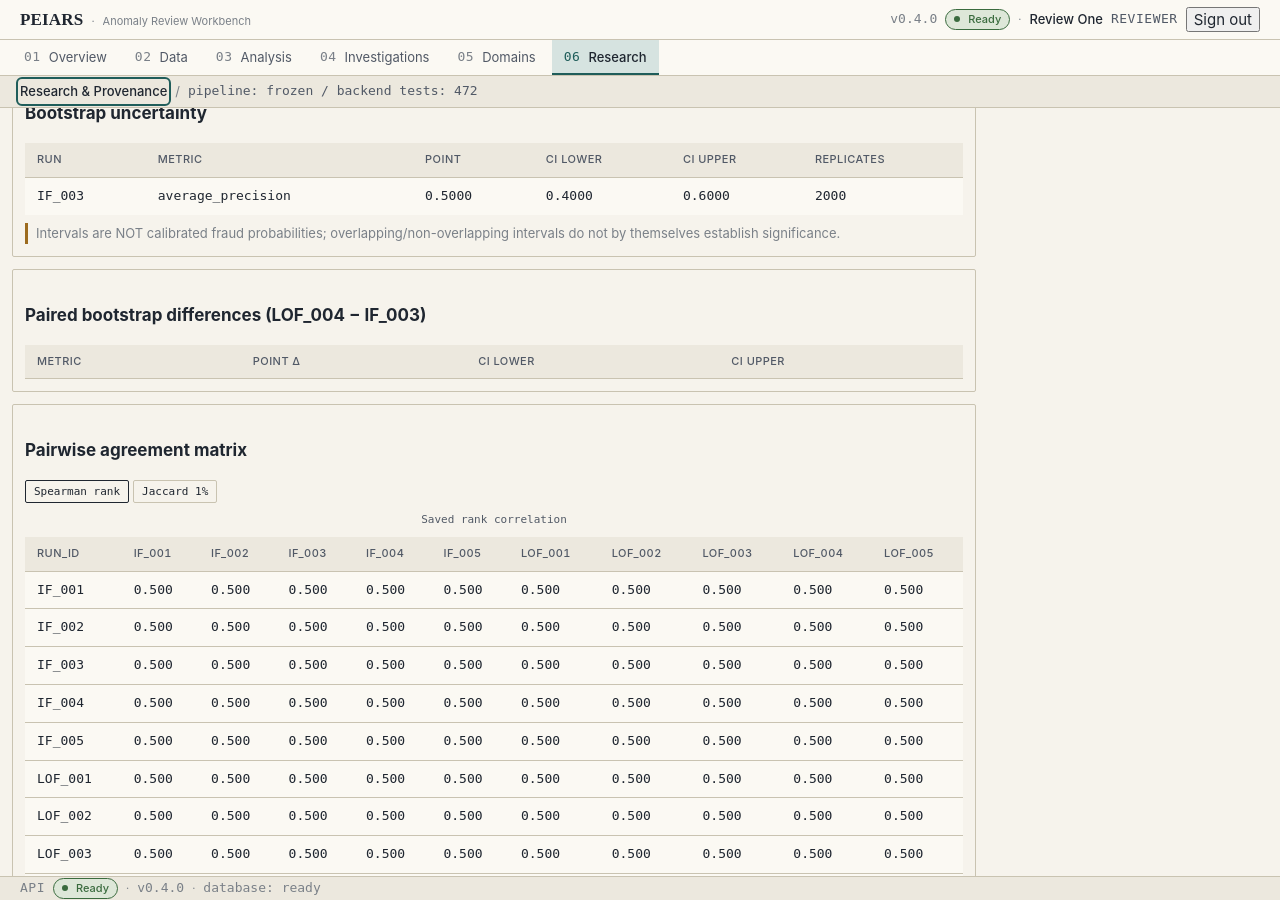
it: phase5a evidence workspace › switches between Spearman and Jaccard matrix tabs
(page scrolled)
Expected: the tab "Spearman rank" is shown, [25,480,129,504]
What coordinates should you click on to do the following:
click the tab "Jaccard 1%"
I would click on:
 (175, 492)
Its box is [133,480,217,504].
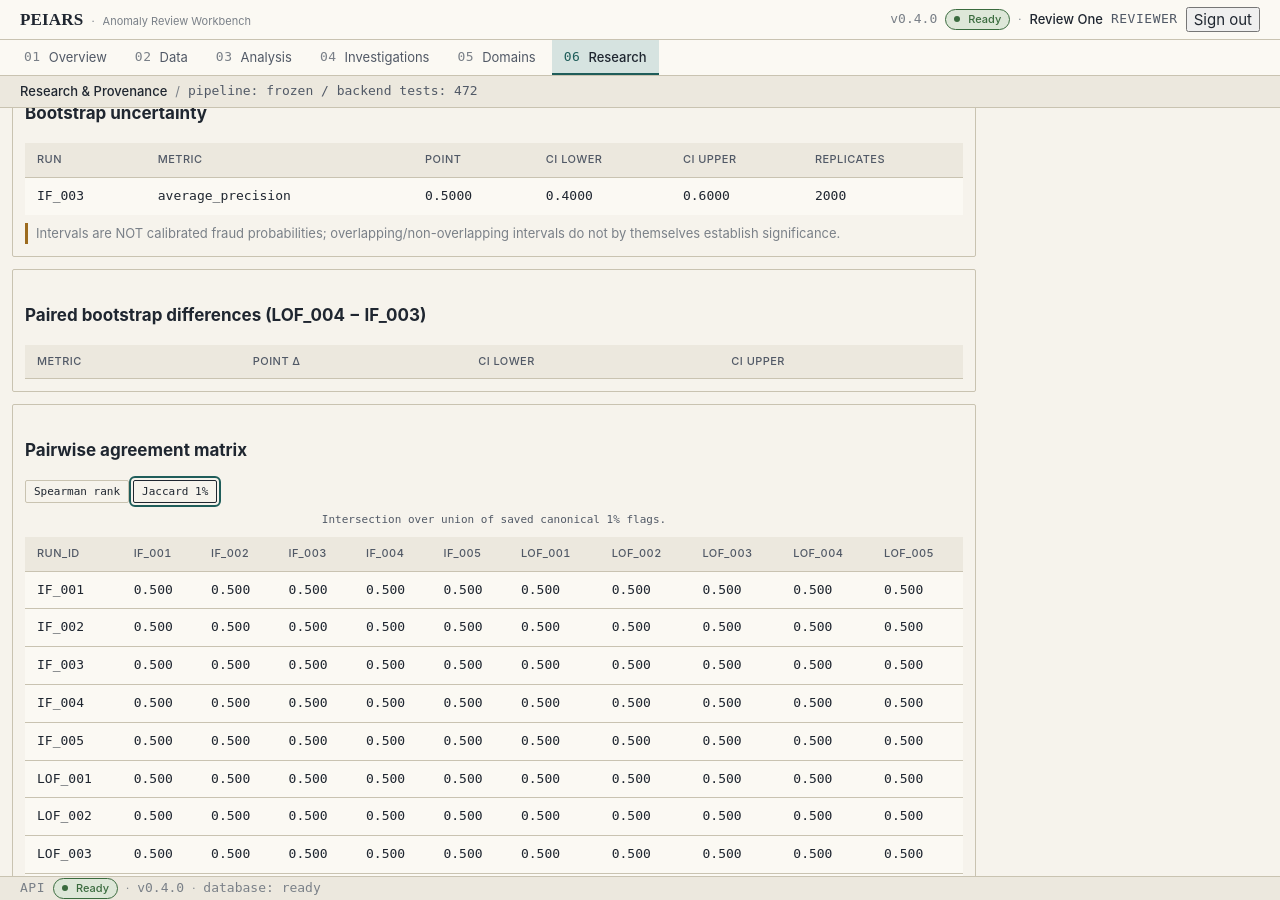
Now the text "Intersection over union of saved canonical 1% flags." is shown, box [322,514,666,526]
